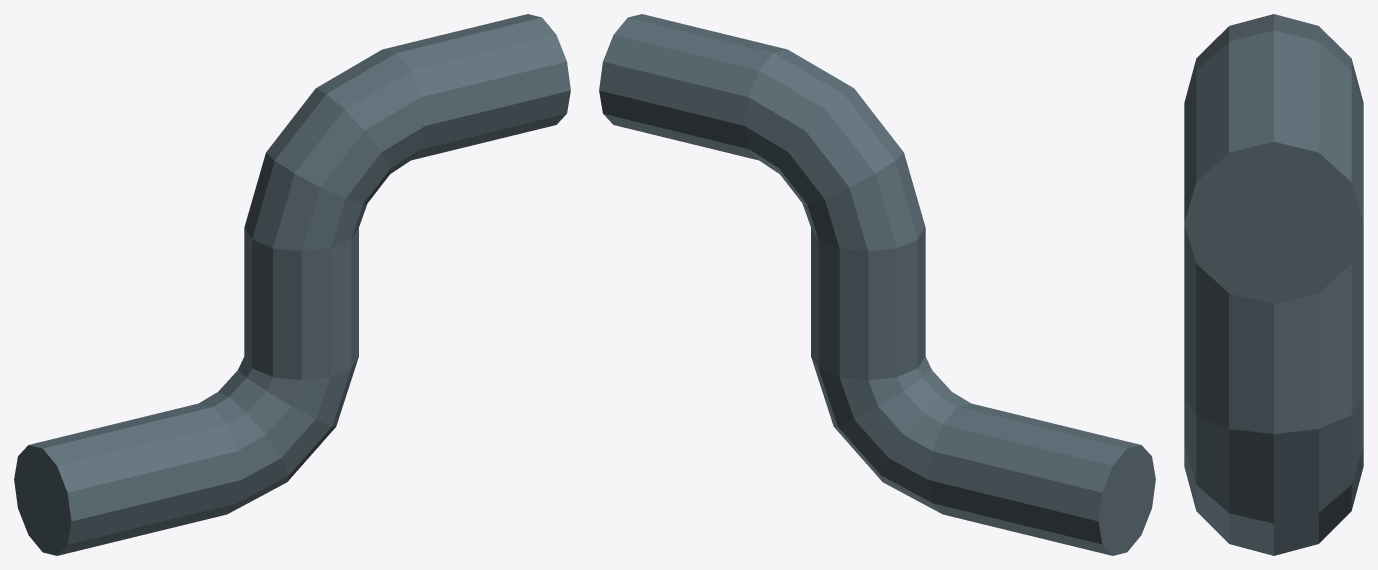
File: SM_Factory_Tank_Joint_Pipe.glb
3 views of the same model, side by side, from view 1: azimuth 30°, elevation 25°; view 2: azimuth 150°, elevation 25°; view 3: azimuth 270°, elevation 25° (orthographic). The views are drawn at different scales.
Parts seen in each view (by area): view 1: SM_Factory_Tank_Joint_Pipe; view 2: SM_Factory_Tank_Joint_Pipe; view 3: SM_Factory_Tank_Joint_Pipe.
Part boxes in pixels (x1,y1,x2,y2): SM_Factory_Tank_Joint_Pipe: (14,14,570,555); SM_Factory_Tank_Joint_Pipe: (599,14,1155,555); SM_Factory_Tank_Joint_Pipe: (1184,14,1363,555).
Bounding box in the file's own units: 2.13 × 1.68 × 0.4234.
Materials: 1 (1 with a texture image).
